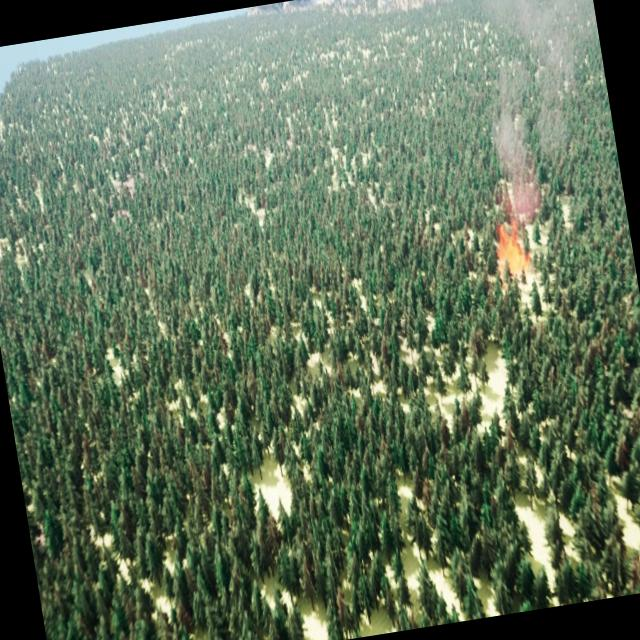fire: (494, 222, 536, 279)
smoke: (467, 0, 623, 208)
